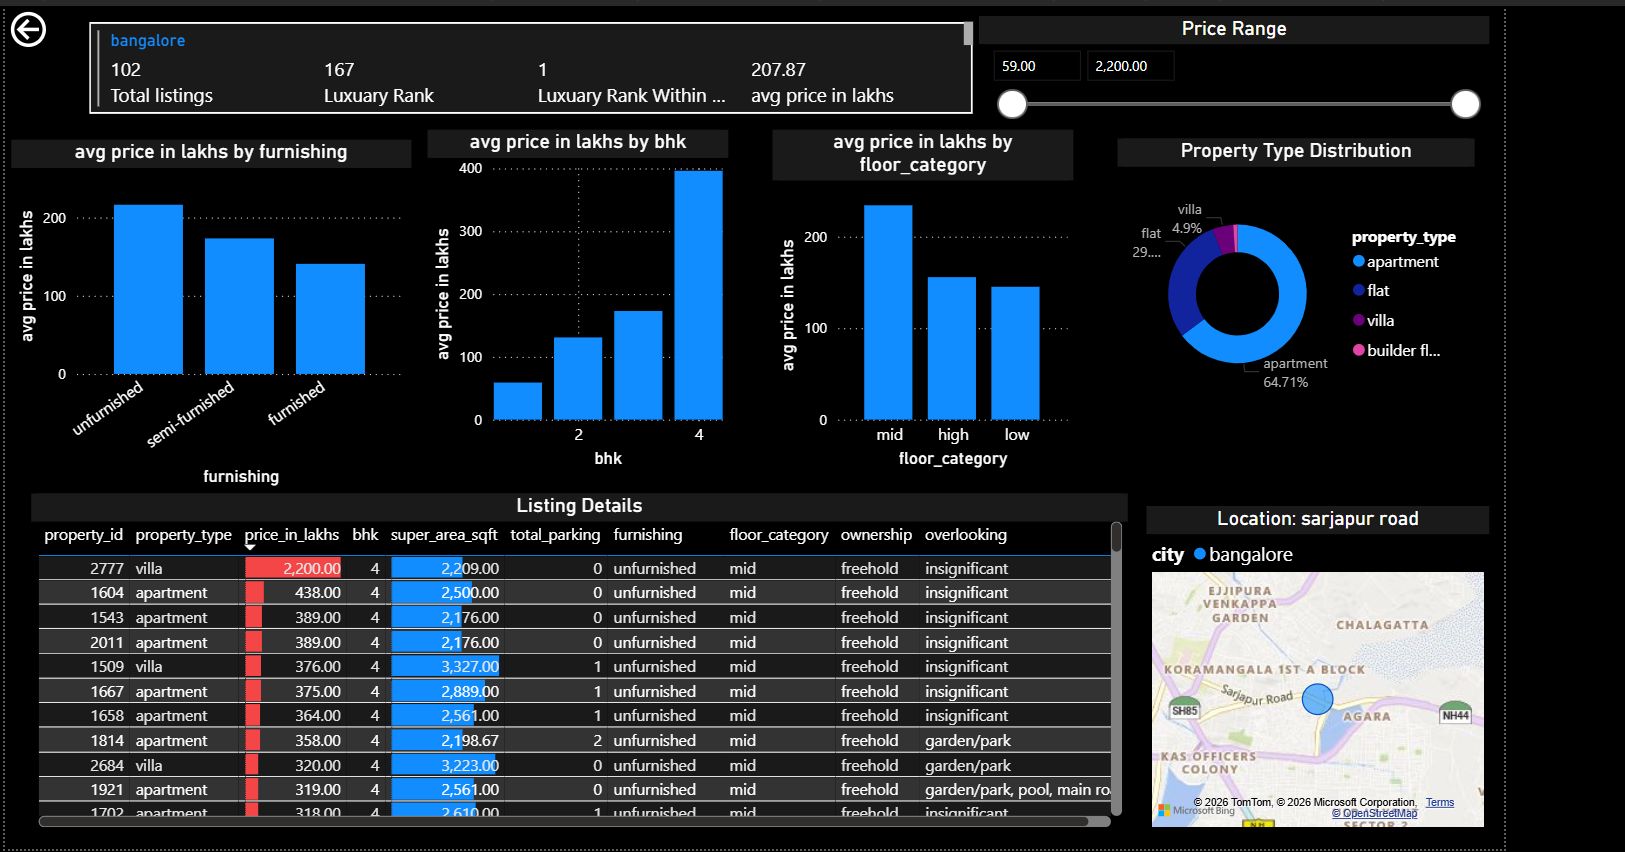

The page's visual inventory and layout, read from the dashboard file:
{"tool":"powerbi","page":{"name":"Location Deep Dive","canvas":[1280,720],"ordinal":2},"visuals":[{"type":"multiRowCard","fields":{"Values":["Measures (2).Total listings","Measures (2).Location Rank Overall","Measures (2).Location Rank Within City","Measures (2).avg price in lakhs","dim_city.city"]},"box":[67.2,8.5,764,89.6],"z":0},{"type":"actionButton","box":[0,0,100,40],"z":1000},{"type":"clusteredColumnChart","fields":{"Category":["dim_furnishing.furnishing"],"Y":["Measures (2).avg price in lakhs"]},"box":[5.3,114.2,341.4,300.9],"z":2000},{"type":"donutChart","title":"Property Type Distribution","fields":{"Category":["dim_property.property_type"],"Y":["CountNonNull(fact_property.property_id)"]},"box":[949.6,113.1,305.2,246.5],"z":3000},{"type":"map","fields":{"Series":["dim_city.city"],"Y":["dim_location.lat"],"X":["dim_location.lon"],"Size":["Avg(fact_property.price_in_lakhs)"]},"box":[974.4,426.7,293,279.1],"z":4000},{"type":"tableEx","title":"Listing Details","fields":{"Values":["fact_property.property_id","dim_property.property_type","fact_property.price_in_lakhs","fact_property.bhk","fact_property.super_area_sqft","fact_property.total_parking","dim_furnishing.furnishing","dim_floor.floor_category","dim_ownership.ownership","dim_overlooking.overlooking"]},"box":[22,415.8,935.9,289.5],"z":5000},{"type":"clusteredColumnChart","fields":{"Y":["Measures (2).avg price in lakhs"],"Category":["fact_property.bhk"]},"box":[360.6,105.6,257.1,293.4],"z":6000},{"type":"slicer","title":"Price Range","fields":{"Values":["fact_property.price_in_lakhs"]},"box":[831.2,8.5,436.4,97.1],"z":8000},{"type":"clusteredColumnChart","fields":{"Y":["Measures (2).avg price in lakhs"],"Category":["dim_floor.floor_category"]},"box":[655.1,105.6,257.1,293.4],"z":9000}]}

Visuals, with their boxes on the page's 1280x720 design canvas (x1, y1, x2, y2). These are canvas units, not pixel positions in the 1625x852 screenshot, which may show the page scaled, cropped or inside an application window:
multiRowCard - Measures (2).Total listings x Measures (2).Location Rank Overall: box=[67, 8, 831, 98]
actionButton: box=[0, 0, 100, 40]
clusteredColumnChart - dim_furnishing.furnishing x Measures (2).avg price in lakhs: box=[5, 114, 347, 415]
"Property Type Distribution" donutChart: box=[950, 113, 1255, 360]
map - dim_city.city x dim_location.lat: box=[974, 427, 1267, 706]
"Listing Details" tableEx: box=[22, 416, 958, 705]
clusteredColumnChart - Measures (2).avg price in lakhs x fact_property.bhk: box=[361, 106, 618, 399]
"Price Range" slicer: box=[831, 8, 1268, 106]
clusteredColumnChart - Measures (2).avg price in lakhs x dim_floor.floor_category: box=[655, 106, 912, 399]
